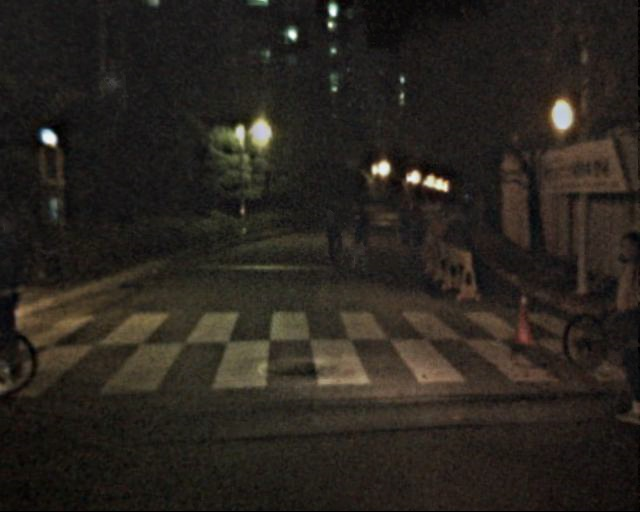person: (585, 233, 640, 422), (1, 211, 35, 387), (345, 208, 373, 277), (317, 207, 345, 275), (394, 210, 417, 265), (405, 212, 428, 267)
